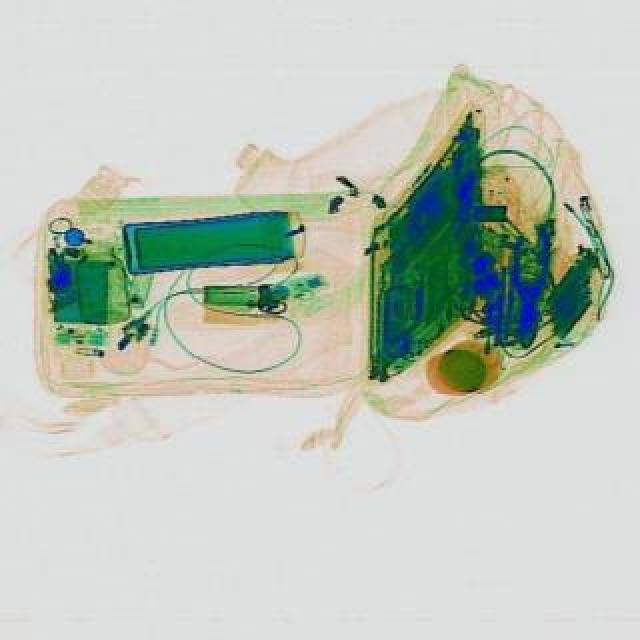wrench: (502, 224, 550, 348)
